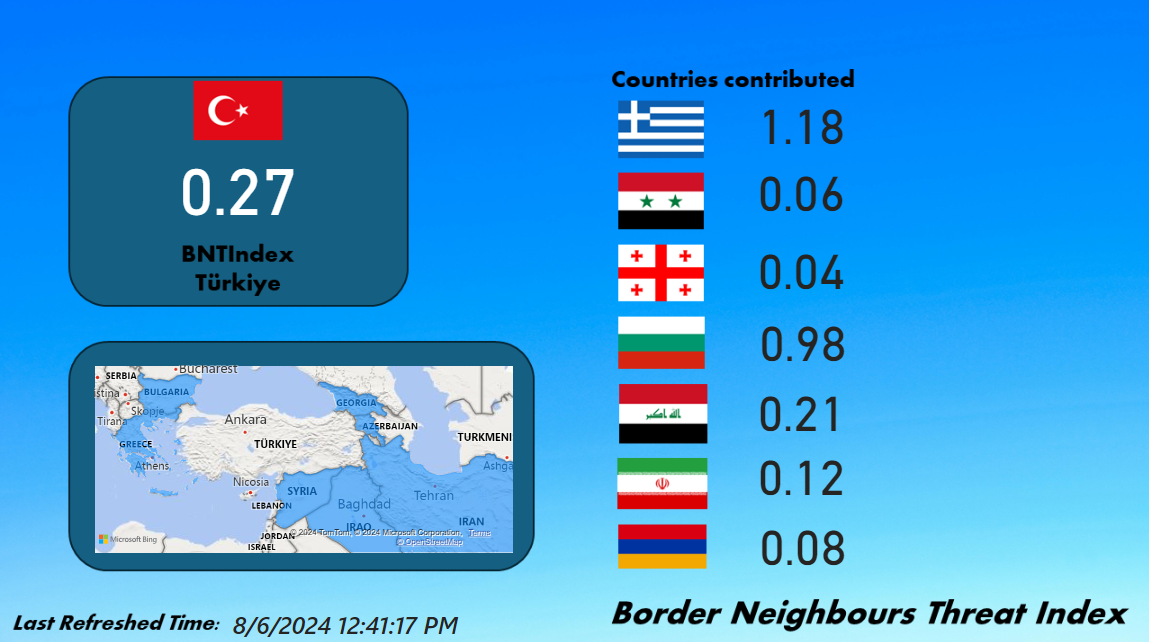

The dashboard page shown, as its layout file describes it:
{"tool":"powerbi","page":{"name":"Page 1","canvas":[1280,720],"ordinal":0},"visuals":[{"type":"filledMap","fields":{"Category":["Sheet1.Country"]},"box":[100,402.5,475,217.5],"z":0},{"type":"card","fields":{"Values":["Sheet1.Contribution for Turkey"]},"box":[166,176,194,78],"z":1000},{"type":"card","fields":{"Values":["Sheet1.Contribution for Armenia"]},"box":[816.4,582.7,150,60.9],"z":2000},{"type":"card","fields":{"Values":["Sheet1.Contribution for Syria"]},"box":[815.7,188.6,150,65.7],"z":3000},{"type":"card","fields":{"Values":["Sheet1.Contribution for Iraq"]},"box":[815.7,430,150,71.4],"z":4000},{"type":"card","fields":{"Values":["Sheet1.Contribution for Iran"]},"box":[815.7,501.4,150,70],"z":5000},{"type":"card","fields":{"Values":["Sheet1.Contribution for Georgia"]},"box":[815.7,272.9,150,68.6],"z":6000},{"type":"card","fields":{"Values":["Sheet1.Contribution for Greece"]},"box":[815.7,114.3,150,62.9],"z":7000},{"type":"card","fields":{"Values":["Sheet1.Contribution for Bulgaria"]},"box":[816,353,150,68],"z":8000},{"type":"card","fields":{"Values":["Min(Query1.Column1)"]},"box":[220,677.5,326.7,36.7],"z":8001}]}

Visuals, with their boxes in screenshot pixels (x1, y1, x2, y2), scaled from the page's 1280x720 canvas onto the 1149x642 screenshot:
filledMap - Sheet1.Country: <region>90, 359, 516, 553</region>
card - Sheet1.Contribution for Turkey: <region>149, 157, 323, 226</region>
card - Sheet1.Contribution for Armenia: <region>733, 520, 867, 574</region>
card - Sheet1.Contribution for Syria: <region>732, 168, 867, 227</region>
card - Sheet1.Contribution for Iraq: <region>732, 383, 867, 447</region>
card - Sheet1.Contribution for Iran: <region>732, 447, 867, 509</region>
card - Sheet1.Contribution for Georgia: <region>732, 243, 867, 305</region>
card - Sheet1.Contribution for Greece: <region>732, 102, 867, 158</region>
card - Sheet1.Contribution for Bulgaria: <region>732, 315, 867, 375</region>
card - Min(Query1.Column1): <region>197, 604, 491, 637</region>
